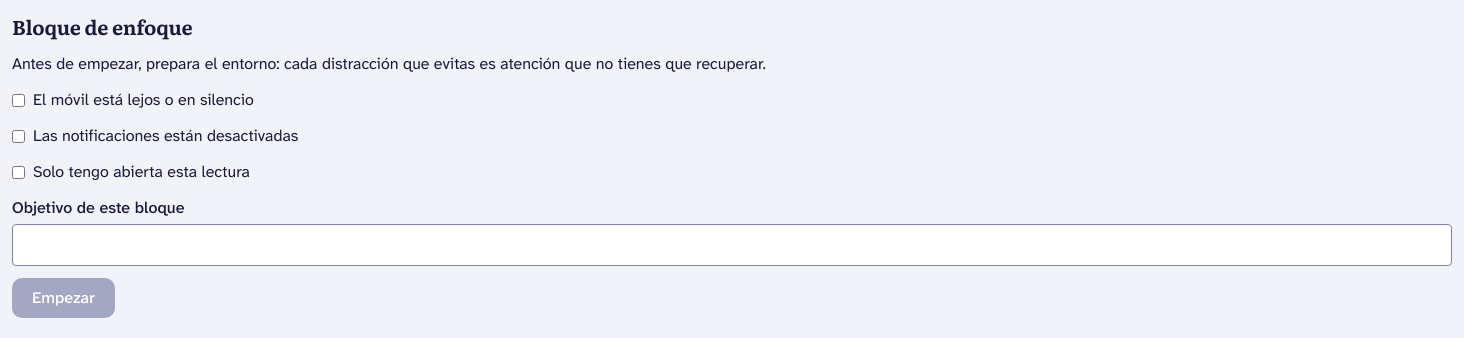
FocusChecklist › habilita «Empezar» solo con las tres casillas marcadas y entrega el objetivo
Later steps or results of the test are not shown.
Expected: the button "Empezar" is disabled, [12, 278, 115, 318]
Click the checkbox labelled "El móvil está lejos o en silencio": click(18, 100) [12, 94, 25, 106]
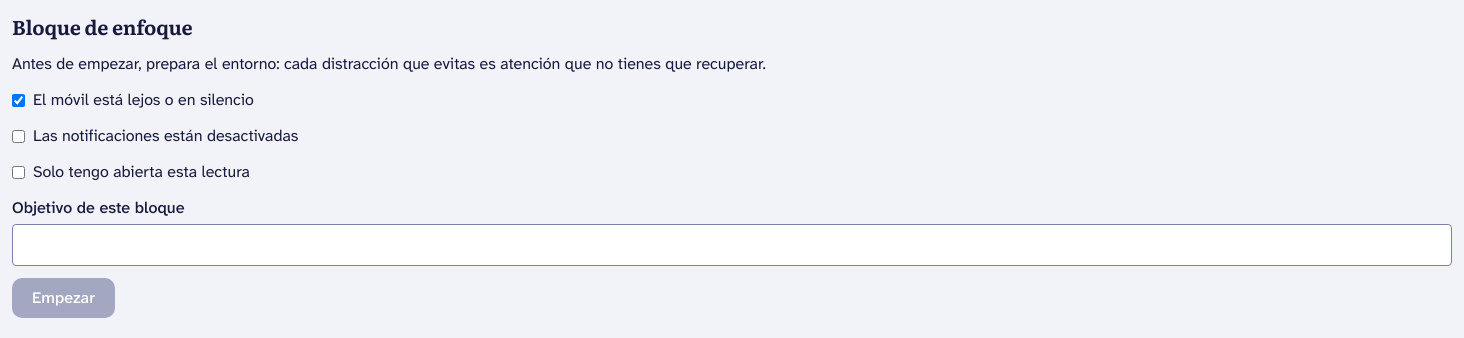
Click the checkbox labelled "Las notificaciones están desactivadas": click(18, 136) [12, 130, 25, 142]
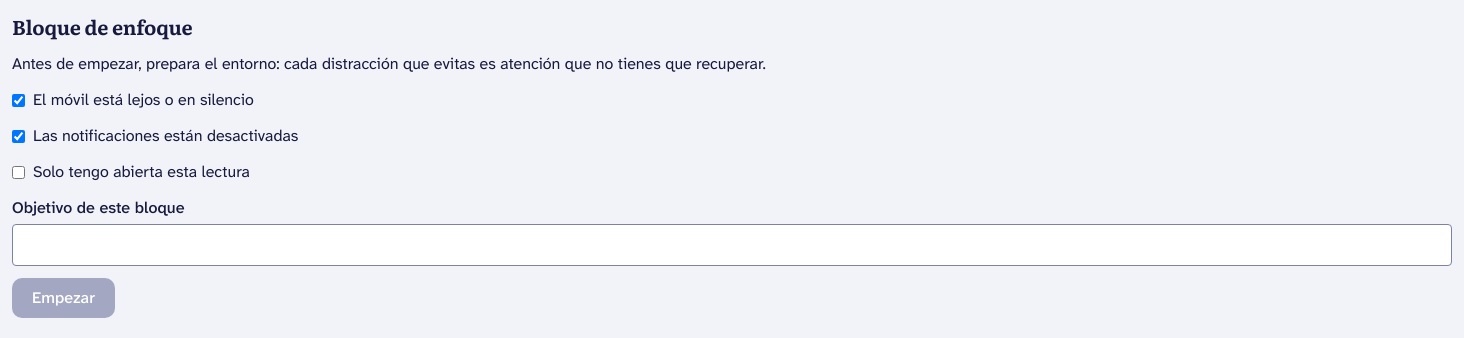
Expected: the button "Empezar" is disabled, [12, 278, 115, 318]
Click the checkbox labelled "Solo tengo abierta esta lectura": click(18, 172) [12, 166, 25, 178]
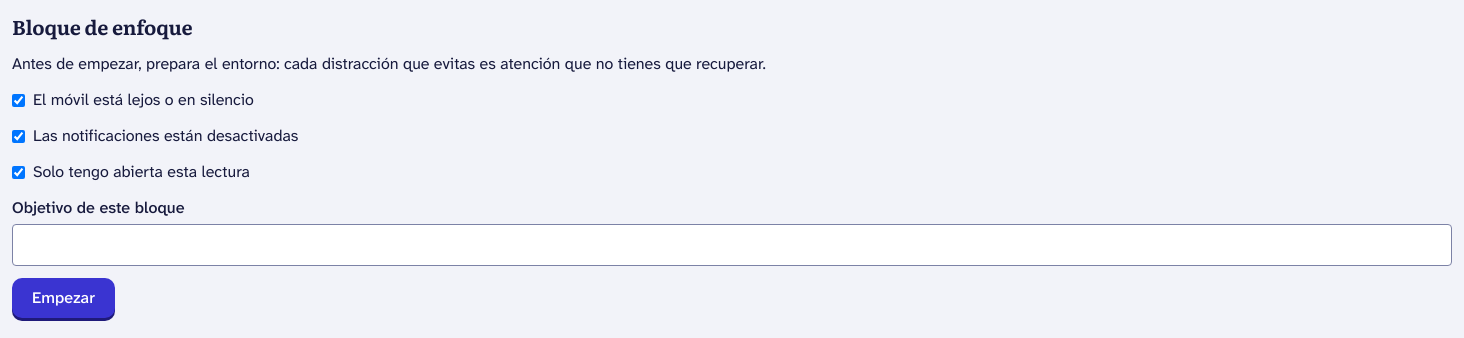
In the field labelled "Objetivo de este bloque": (732, 245) [12, 224, 1452, 266], type "Leer el capítulo 3"
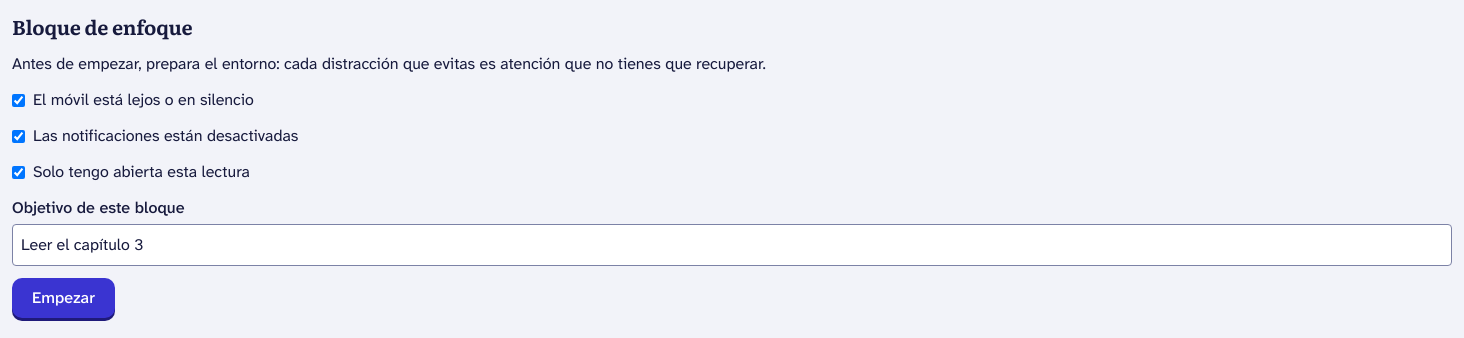
Expected: the button "Empezar" is enabled, [12, 278, 115, 318]
